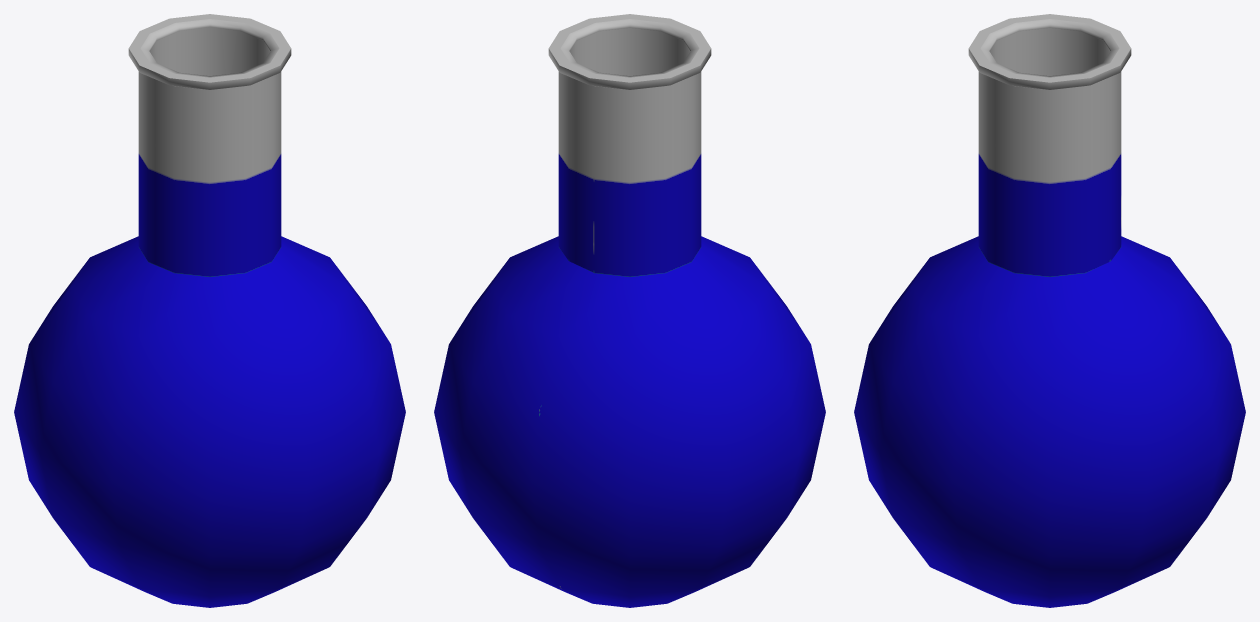
File: poti azul (provisoria).fbx
3 views of the same model, side by side, from view 1: azimuth 30°, elevation 25°; view 2: azimuth 150°, elevation 25°; view 3: azimuth 270°, elevation 25° (orthographic).
Visible parts, largest first — view 1: Sphere.006; view 2: Sphere.006; view 3: Sphere.006.
Part boxes in pixels (x1,y1,x2,y2): Sphere.006: (14, 14, 405, 607); Sphere.006: (434, 14, 825, 607); Sphere.006: (854, 14, 1245, 607).
Bounding box in the file's own units: 200 × 305 × 200.
